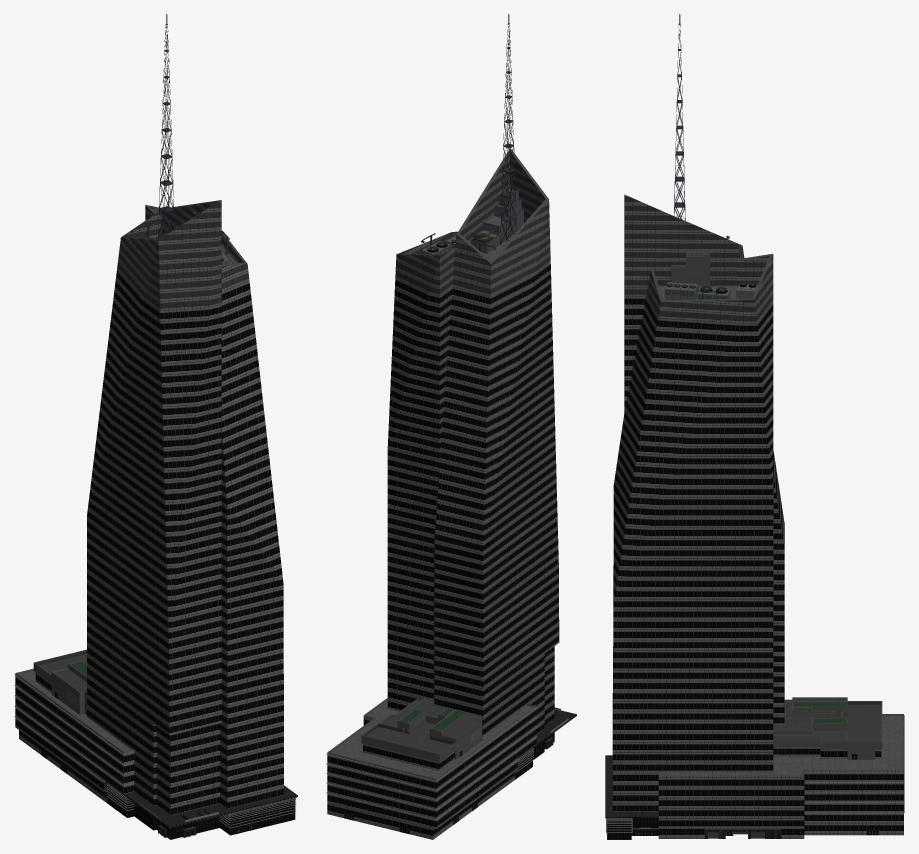
File: oneBriant.glb
The picture shows the model from 3 angles, left to right: view 1: azimuth 30°, elevation 25°; view 2: azimuth 150°, elevation 25°; view 3: azimuth 270°, elevation 25°; orthographic projection. The views are drawn at different scales.
Visible parts, largest first — view 1: BOA; view 2: BOA; view 3: BOA.
Boxes of the visible parts, box(x1,y1,x2,y2) form: BOA: box(14, 14, 297, 839); BOA: box(326, 14, 576, 839); BOA: box(605, 14, 904, 839).
Size of the model in its own units: 774 by 4541 by 1576.
1 material, 1 textured.
